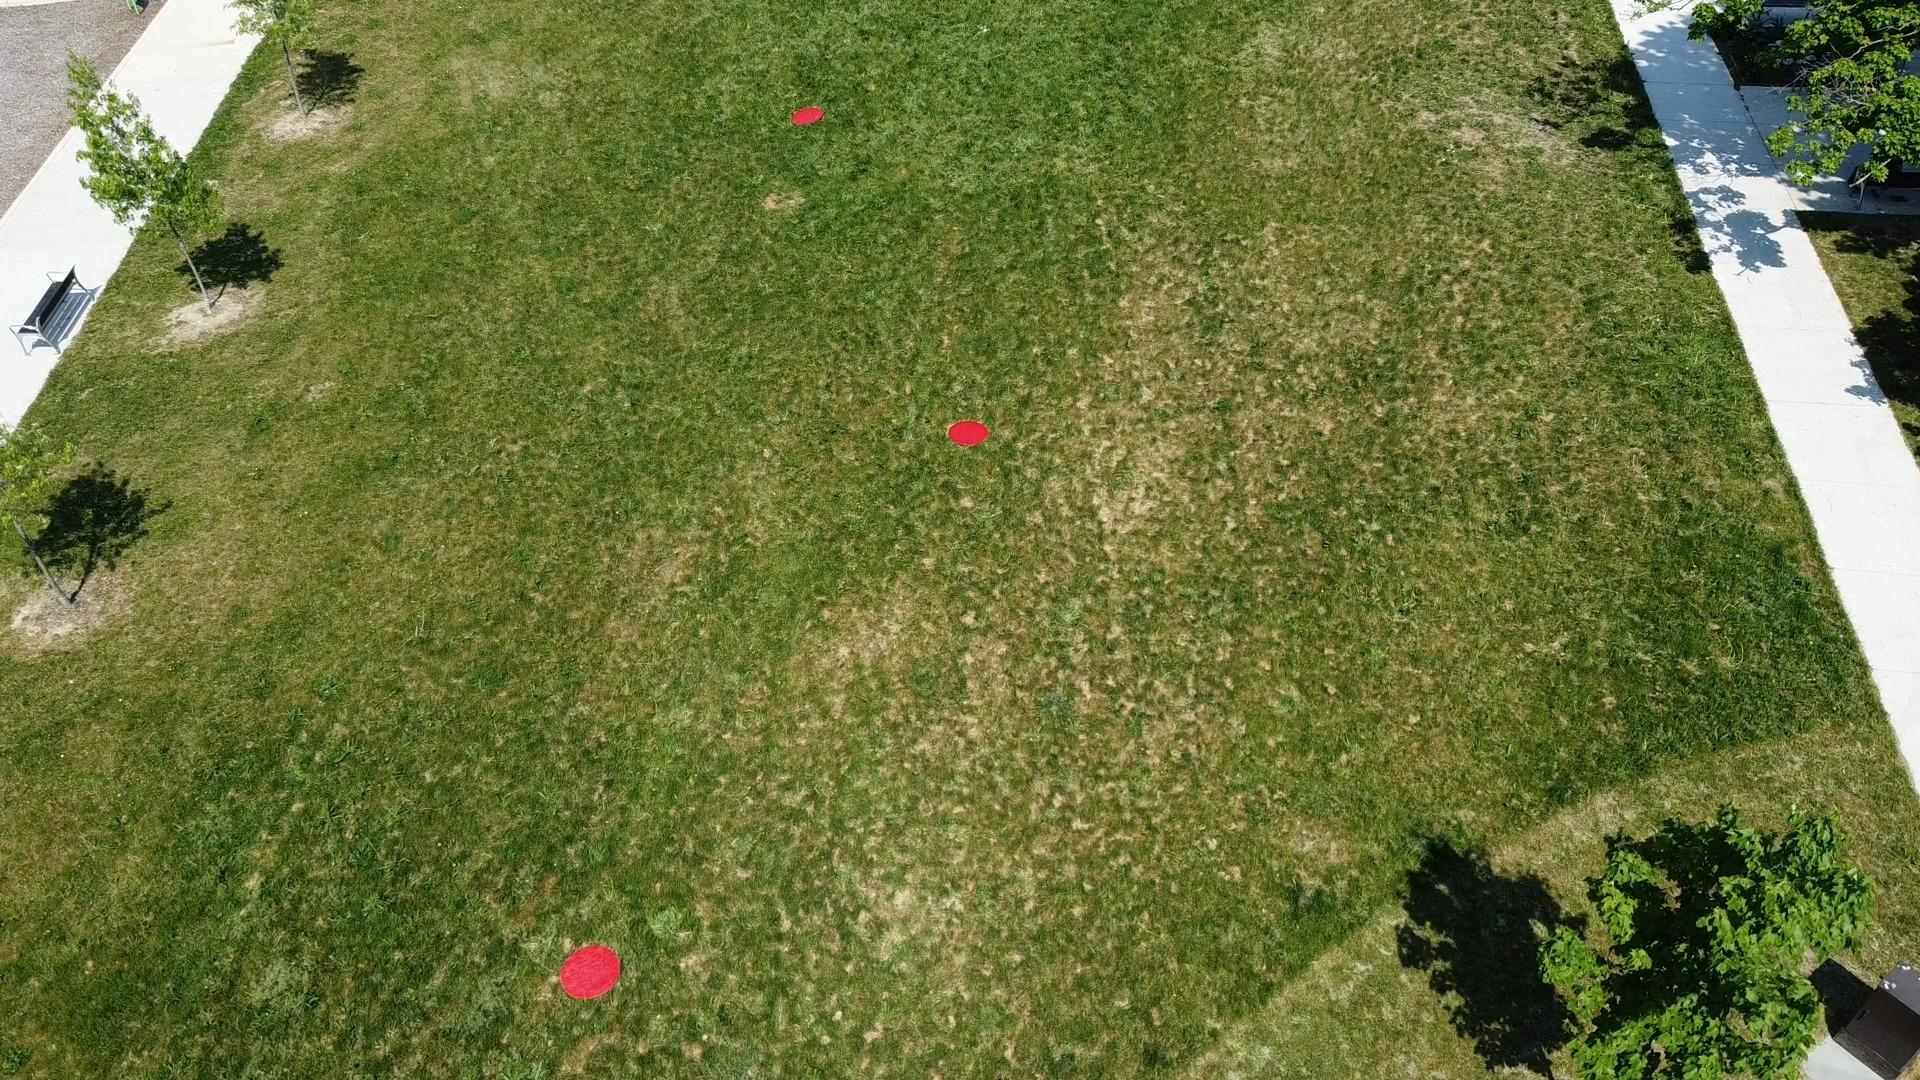Red: (553, 942, 625, 1002), (945, 417, 990, 451), (787, 104, 828, 127)
